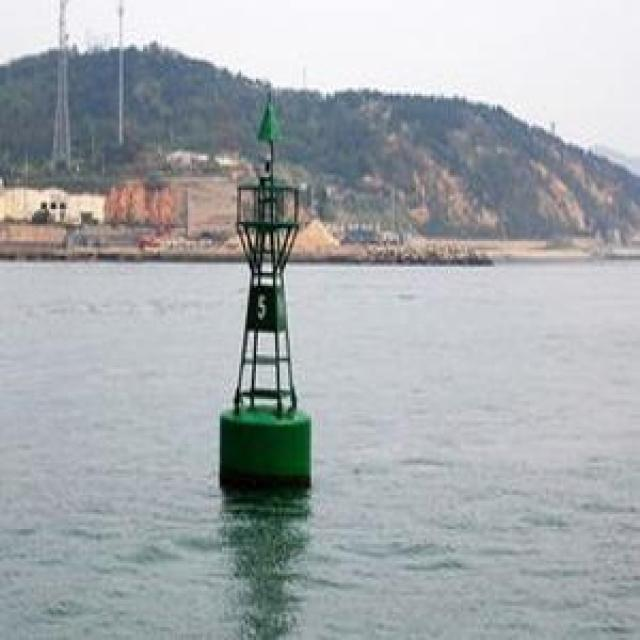buoy: (204, 88, 319, 487)
